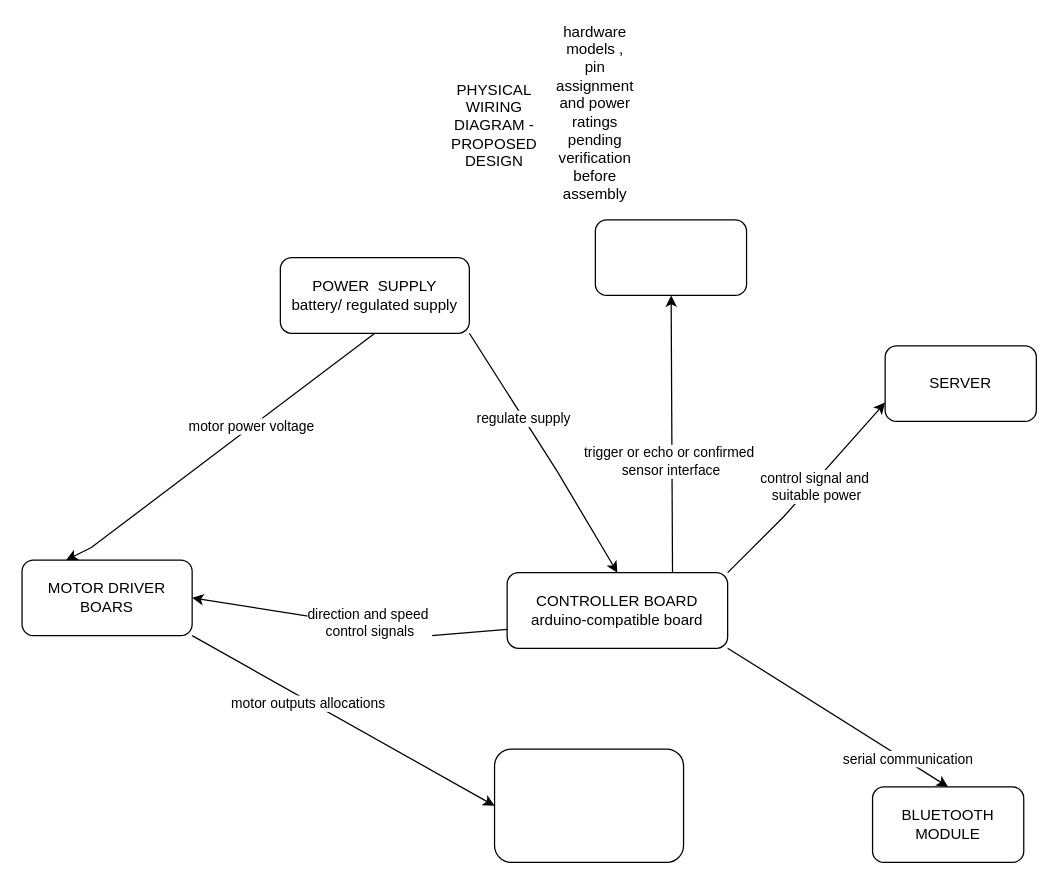
This 1058x885 diagram has some shape labels left out. The box of each missing label's shape, as (x1, y1, x2, y2) in pixels:
FOUR C GEAR MOTORS front-left. front-right. rear-left rear-right: (493, 748, 684, 862)
ULTRASOUND SENSORS: (594, 219, 747, 295)
